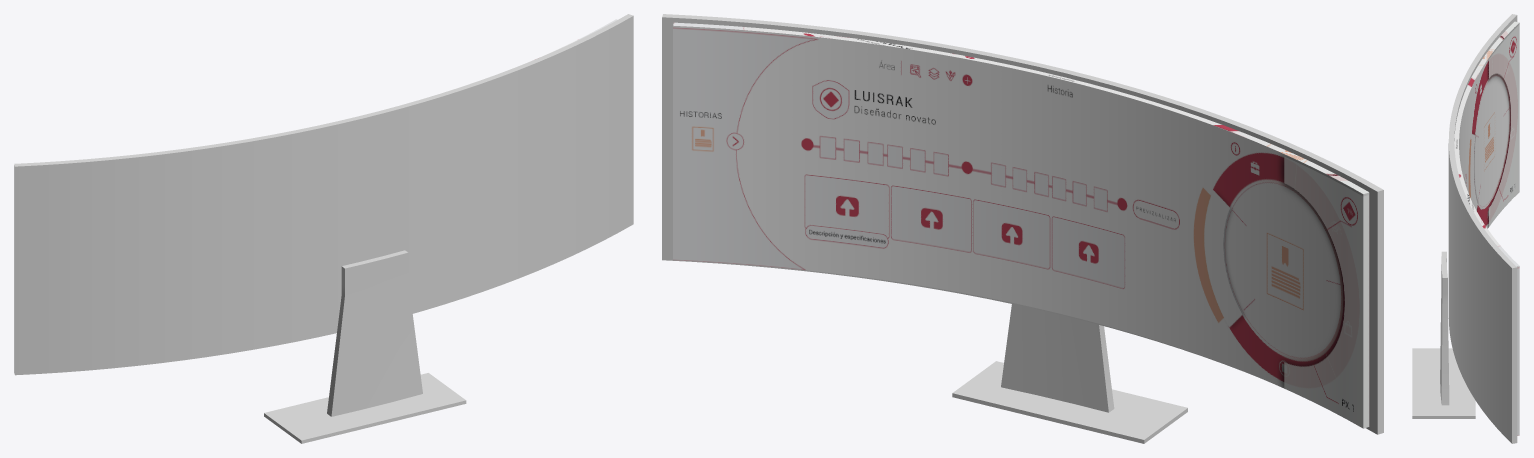
The picture shows the model from 3 angles, left to right: view 1: azimuth 30°, elevation 25°; view 2: azimuth 150°, elevation 25°; view 3: azimuth 270°, elevation 25°; orthographic projection. The views are drawn at different scales.
Visible parts, largest first — view 1: Box041, pc, Box042; view 2: Box043, Box041, pc, Box042; view 3: Box041, Box043, Box042, pc.
Part boxes in pixels (box(x1,y1,x2,y2)): Box041: box(14, 14, 633, 375); pc: box(327, 250, 422, 416); Box042: box(264, 373, 466, 443); Box043: box(673, 22, 1369, 428); Box041: box(662, 14, 1383, 434); pc: box(1001, 304, 1114, 412); Box042: box(952, 361, 1187, 443); Box041: box(1448, 14, 1517, 443); Box043: box(1454, 21, 1519, 435); Box042: box(1412, 348, 1475, 418); pc: box(1440, 251, 1449, 405).
Bounding box in the file's own units: 1.11 × 0.4982 × 0.199.
